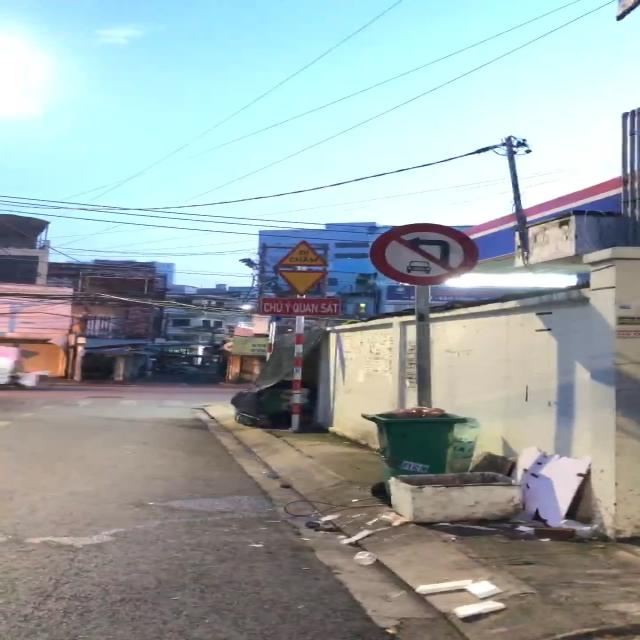Bien bao di cham: (267, 236, 332, 266)
Bien bao giao nhau voi duong uu tien: (273, 270, 332, 294)
